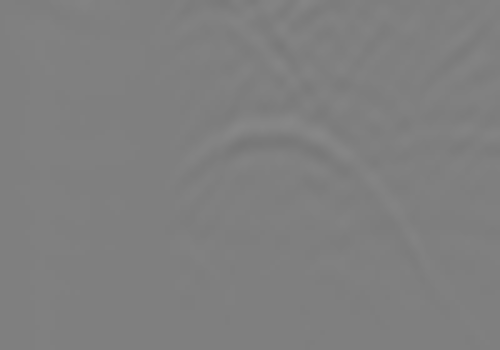hyperbola: (109, 107, 451, 311)
